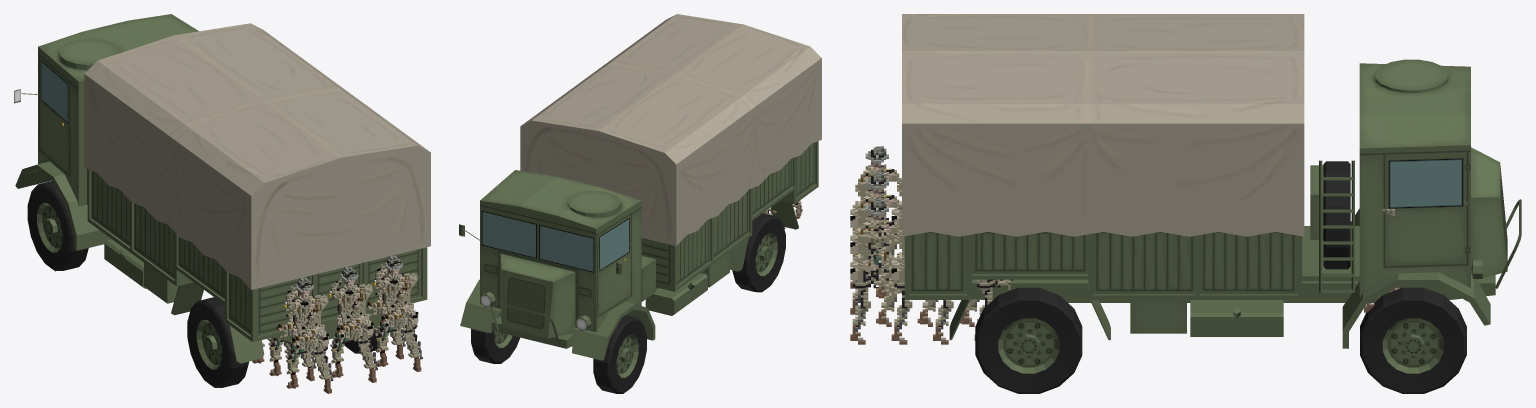
File: austin_k5.glb
3 renders of one model, left to right at view 1: azimuth 30°, elevation 25°; view 2: azimuth 150°, elevation 25°; view 3: azimuth 270°, elevation 25°, orthographic. The views are drawn at different scales.
Visible parts, largest first — view 1: 04_chassis_austin_k5_chassis.mesh, 02_tire_index_2_austin_k5_wheel.mesh, 00_tire_index_0_austin_k5_wheel.mesh, crew_soldier_SLOT_06_PASSENGER, crew_soldier_SLOT_07_PASSENGER, crew_soldier_SLOT_05_PASSENGER, crew_soldier_SLOT_08_PASSENGER, crew_soldier_SLOT_04_PASSENGER; view 2: 04_chassis_austin_k5_chassis.mesh, 00_tire_index_0_austin_k5_wheel.mesh, 02_tire_index_2_austin_k5_wheel.mesh, 01_tire_index_1_austin_k5_wheel.mesh; view 3: 04_chassis_austin_k5_chassis.mesh, 03_tire_index_3_austin_k5_wheel.mesh, 01_tire_index_1_austin_k5_wheel.mesh, crew_soldier_SLOT_05_PASSENGER, crew_soldier_SLOT_06_PASSENGER, crew_soldier_SLOT_07_PASSENGER, crew_soldier_SLOT_04_PASSENGER, crew_soldier_SLOT_03_PASSENGER.
Boxes of the visible parts, box(x1,y1,x2,y2) form: 04_chassis_austin_k5_chassis.mesh: box(14, 14, 430, 363); 02_tire_index_2_austin_k5_wheel.mesh: box(187, 297, 248, 387); 00_tire_index_0_austin_k5_wheel.mesh: box(27, 181, 88, 271); crew_soldier_SLOT_06_PASSENGER: box(328, 266, 377, 382); crew_soldier_SLOT_07_PASSENGER: box(284, 277, 333, 393); crew_soldier_SLOT_05_PASSENGER: box(373, 255, 422, 371); crew_soldier_SLOT_08_PASSENGER: box(268, 286, 316, 381); crew_soldier_SLOT_04_PASSENGER: box(359, 264, 405, 359); 04_chassis_austin_k5_chassis.mesh: box(459, 14, 821, 360); 00_tire_index_0_austin_k5_wheel.mesh: box(593, 315, 646, 393); 02_tire_index_2_austin_k5_wheel.mesh: box(732, 213, 785, 292); 01_tire_index_1_austin_k5_wheel.mesh: box(471, 328, 519, 363); 04_chassis_austin_k5_chassis.mesh: box(902, 14, 1521, 348); 03_tire_index_3_austin_k5_wheel.mesh: box(975, 287, 1082, 393); 01_tire_index_1_austin_k5_wheel.mesh: box(1360, 287, 1466, 393); crew_soldier_SLOT_05_PASSENGER: box(850, 198, 901, 344); crew_soldier_SLOT_06_PASSENGER: box(850, 172, 901, 314); crew_soldier_SLOT_07_PASSENGER: box(850, 146, 901, 288); crew_soldier_SLOT_04_PASSENGER: box(891, 231, 938, 344); crew_soldier_SLOT_03_PASSENGER: box(933, 280, 979, 344).
Bounding box in the file's own units: 3.14 × 3.96 × 8.11.
Materials: 37 (1 with a texture image).
